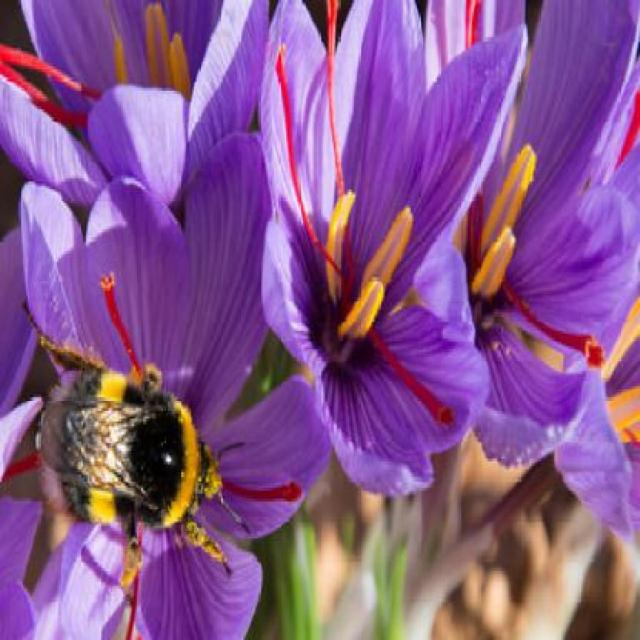Flower: (0, 124, 275, 638), (258, 0, 491, 508), (430, 0, 638, 526)
stigma: (270, 44, 350, 280), (324, 1, 360, 312), (499, 276, 607, 372), (367, 323, 459, 426), (0, 35, 107, 102), (0, 63, 95, 128), (95, 270, 146, 380), (217, 472, 309, 508), (611, 82, 640, 172), (2, 447, 46, 488), (462, 0, 488, 50)
